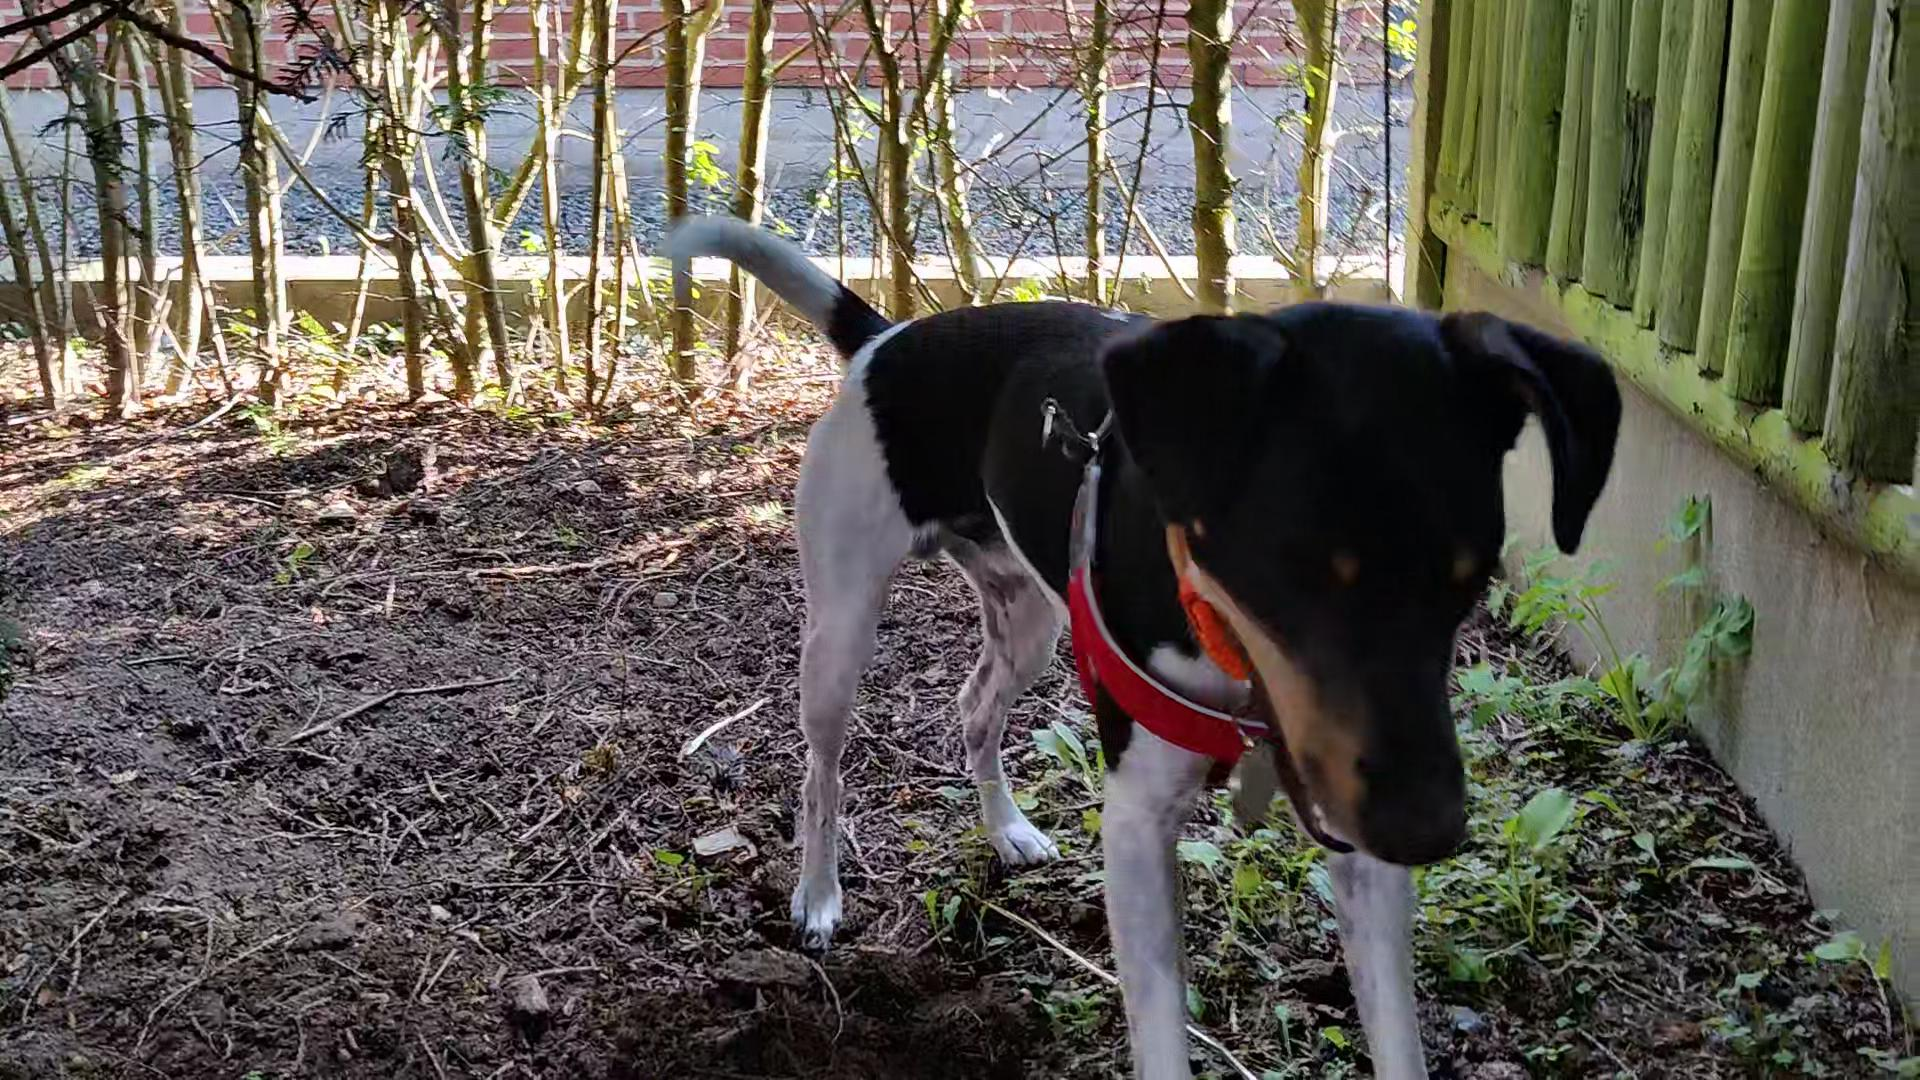Dog: (613, 173, 1638, 1079)
